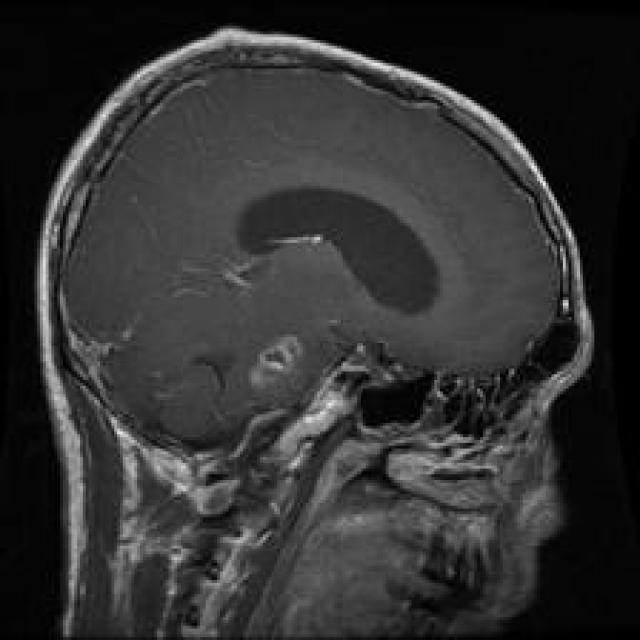glioma_tumor: (235, 326, 321, 412)
